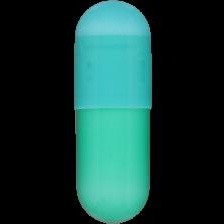59762-3328: (0, 0, 224, 224)
